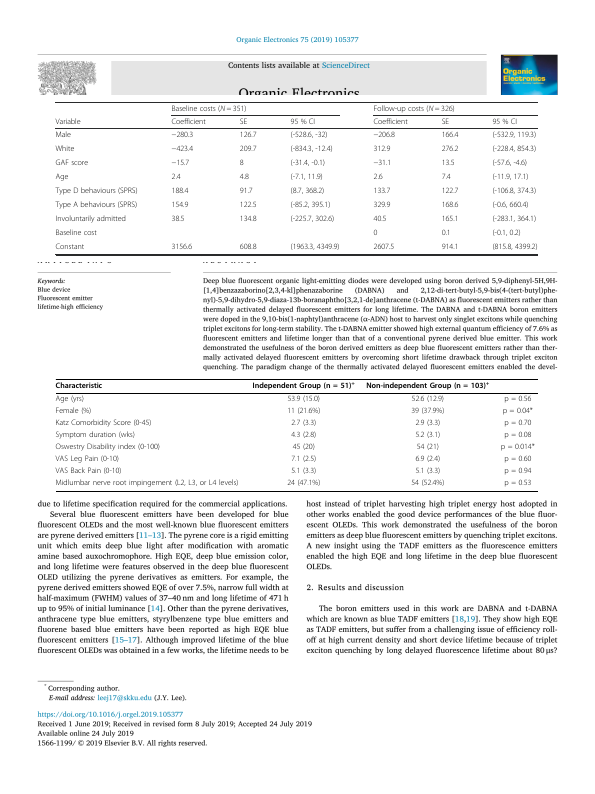borderless: (54, 100, 537, 254), (54, 378, 538, 491)
cell: (55, 479, 239, 488), (365, 380, 490, 391), (252, 380, 356, 391), (55, 443, 161, 453), (55, 419, 152, 429), (54, 186, 138, 196), (54, 200, 138, 210), (55, 431, 136, 441), (372, 104, 456, 113), (54, 214, 127, 224), (171, 104, 247, 113), (55, 467, 122, 476), (55, 455, 120, 464), (290, 242, 340, 252), (491, 242, 538, 252), (491, 130, 537, 140), (491, 144, 537, 154), (491, 186, 537, 196), (491, 214, 537, 224), (290, 214, 335, 224), (54, 228, 98, 238), (55, 382, 103, 391), (290, 144, 333, 154), (290, 200, 331, 210), (290, 130, 328, 140), (491, 172, 529, 182), (491, 200, 529, 210), (55, 407, 92, 417), (372, 117, 409, 127), (491, 158, 528, 168), (500, 443, 536, 453), (171, 117, 207, 127), (290, 158, 326, 168), (286, 395, 321, 405), (286, 407, 321, 417), (410, 407, 445, 417), (54, 158, 89, 168), (290, 186, 325, 196), (411, 395, 445, 405), (290, 172, 324, 182), (502, 407, 534, 417), (286, 479, 321, 488), (410, 479, 445, 488), (491, 228, 522, 238), (54, 242, 85, 252), (55, 395, 85, 405), (503, 395, 532, 405), (503, 419, 532, 429), (503, 431, 532, 441), (290, 419, 317, 429), (414, 419, 441, 429), (290, 431, 317, 441), (414, 431, 441, 441), (54, 117, 81, 127), (491, 117, 518, 127), (503, 455, 532, 464), (503, 467, 532, 476), (503, 479, 532, 488), (290, 117, 316, 127), (290, 455, 317, 464), (414, 455, 441, 464), (290, 467, 317, 476), (414, 467, 441, 476), (292, 443, 316, 453), (416, 443, 440, 453), (372, 130, 396, 140), (171, 130, 194, 140), (171, 144, 194, 154), (372, 242, 395, 252), (171, 242, 193, 252), (54, 144, 75, 154), (372, 158, 392, 168), (372, 144, 391, 154), (171, 158, 190, 168), (372, 186, 391, 196), (372, 200, 391, 210), (54, 130, 72, 140), (239, 130, 257, 140), (441, 130, 459, 140), (239, 144, 257, 154), (441, 144, 459, 154), (171, 186, 189, 196), (441, 186, 459, 196), (171, 200, 189, 210), (239, 200, 257, 210), (441, 200, 459, 210), (239, 214, 257, 224), (441, 214, 459, 224), (239, 242, 257, 252), (441, 242, 459, 252), (54, 172, 69, 182), (239, 186, 254, 196), (372, 214, 387, 224), (441, 158, 455, 168), (171, 214, 185, 224), (171, 172, 182, 182), (239, 172, 250, 182), (372, 172, 383, 182), (441, 172, 452, 182), (441, 228, 452, 238), (239, 117, 248, 127), (441, 117, 450, 127), (239, 158, 245, 168), (372, 228, 378, 238)
